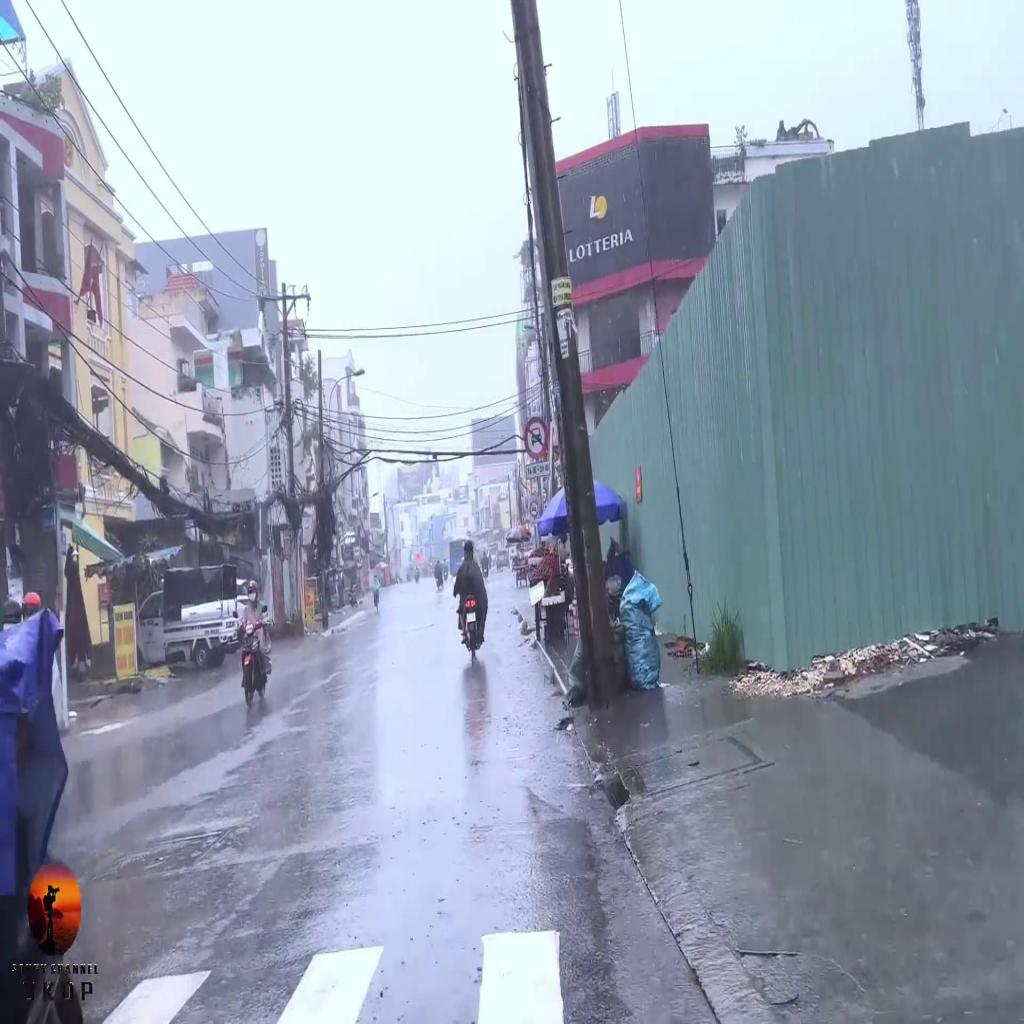cam_o_to: (524, 415, 548, 459), (529, 500, 538, 516)
khac: (526, 462, 550, 478)
